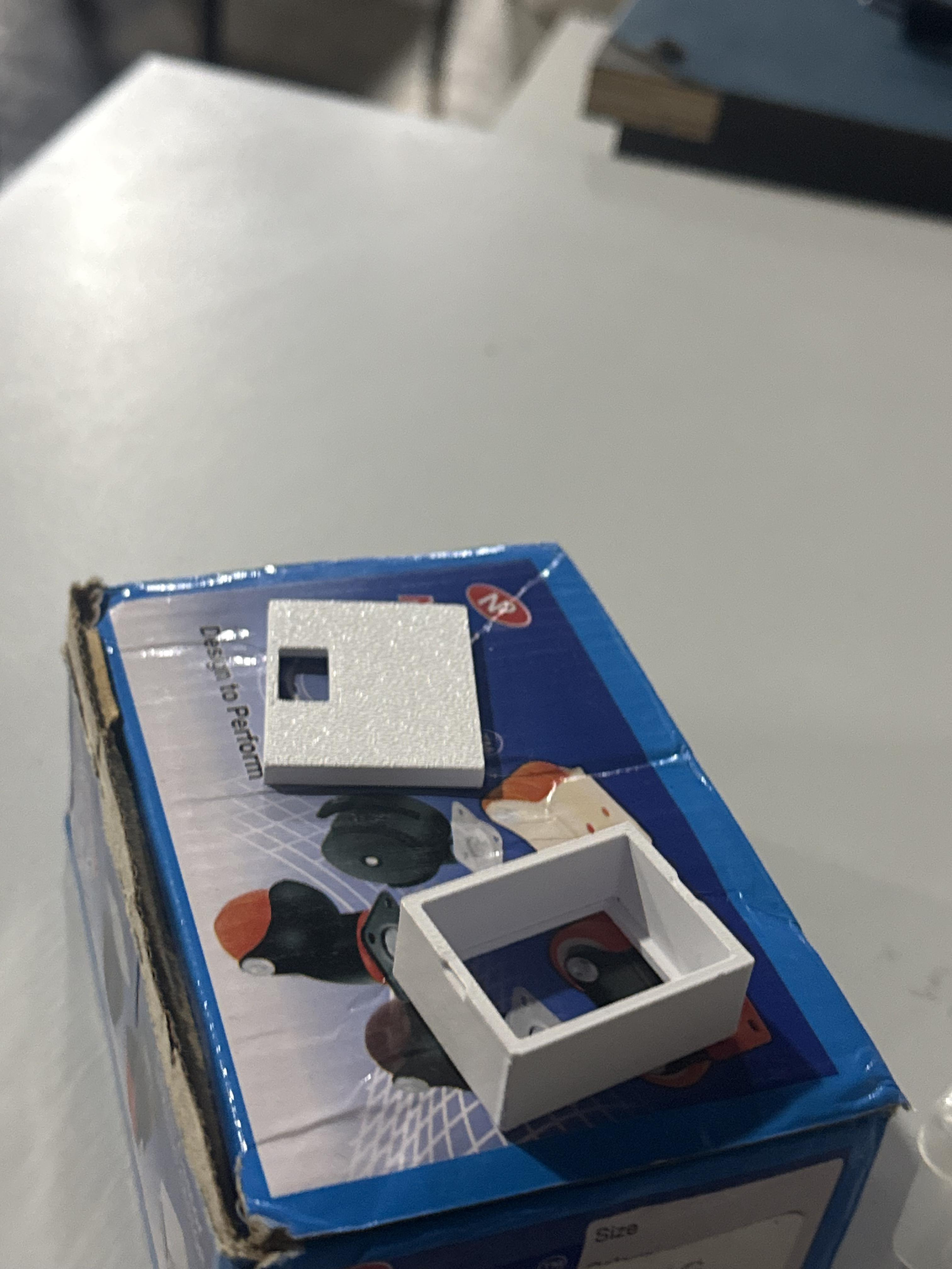enclosure: (390, 821, 756, 1134), (258, 589, 489, 796)
